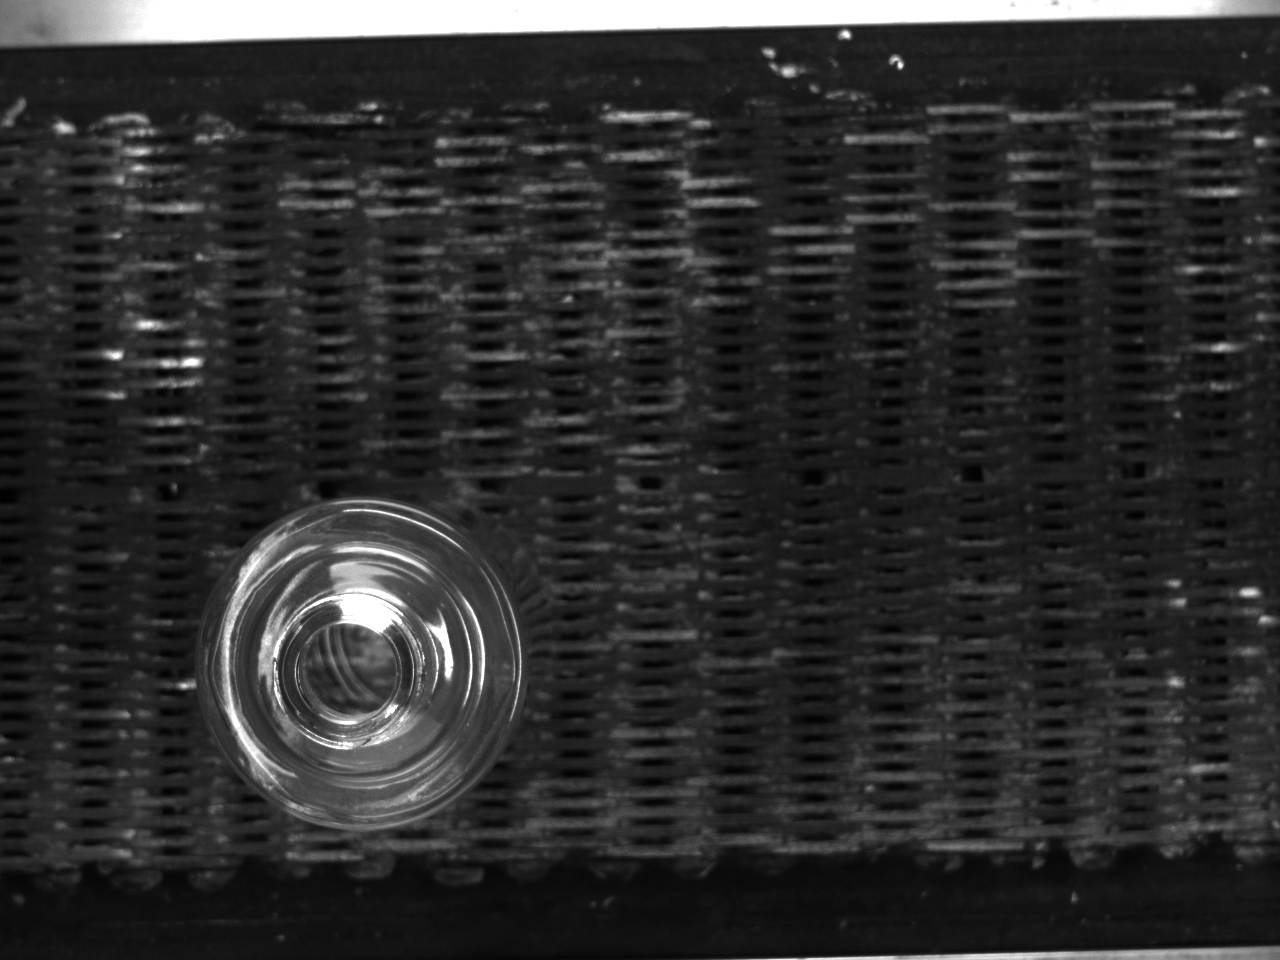bottleneck: (272, 592, 439, 748)
